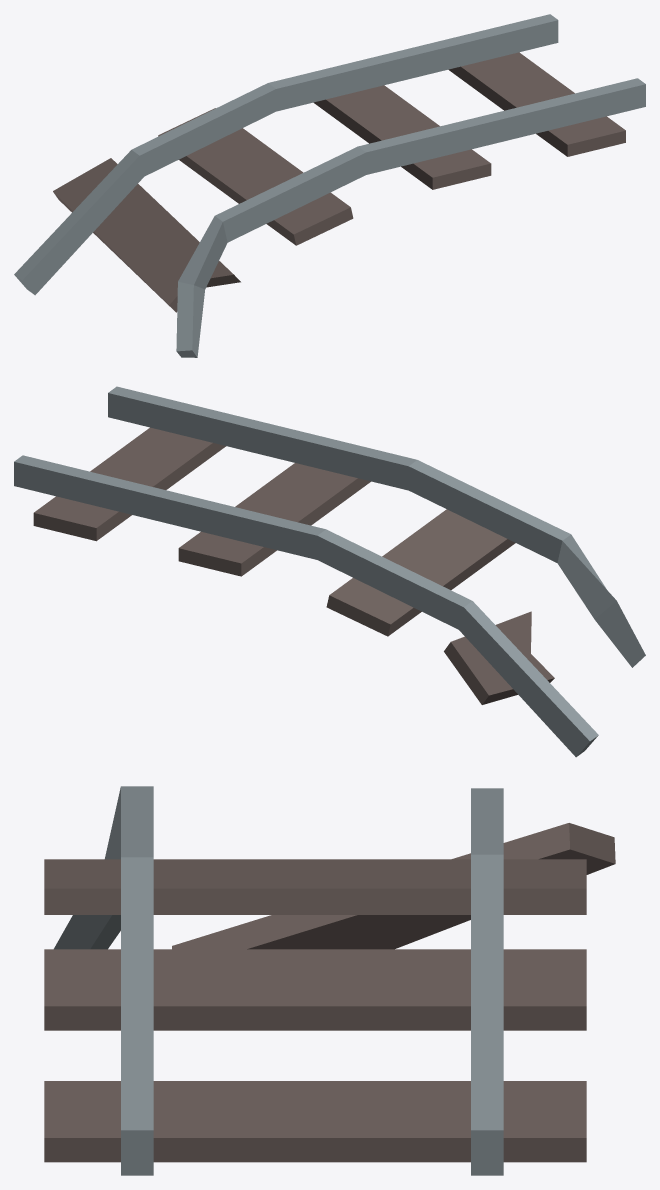
Rendered from Rail-B02.fbx.
3 views of the same model, one above another, from view 1: azimuth 30°, elevation 25°; view 2: azimuth 150°, elevation 25°; view 3: azimuth 270°, elevation 25° (orthographic). The views are drawn at different scales.
Visible parts, largest first — view 1: Rail-B02; view 2: Rail-B02; view 3: Rail-B02.
Part boxes in pixels (<box>): Rail-B02: <box>14,14,645,357</box>; Rail-B02: <box>14,386,645,757</box>; Rail-B02: <box>44,786,615,1175</box>.
Bounding box in the file's own units: 449 × 122 × 207.
